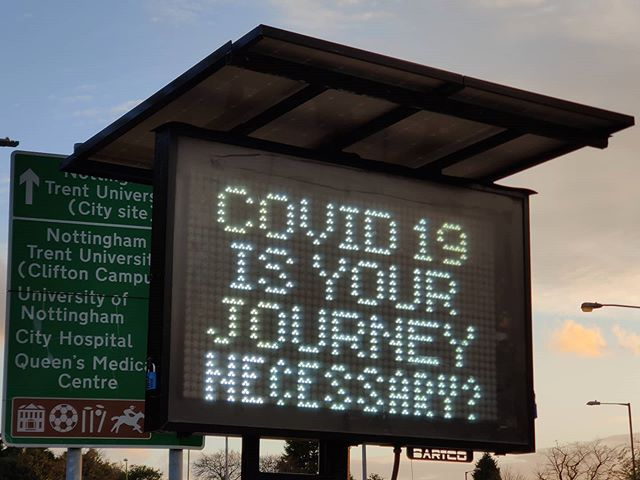sign: (174, 136, 529, 449), (8, 153, 194, 449)
sky: (291, 3, 640, 100), (540, 163, 640, 438), (5, 1, 188, 107)
